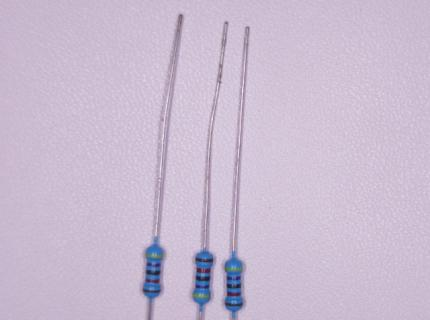Black band: (146, 270, 161, 275), (196, 276, 209, 281), (227, 284, 241, 288)
Brown band: (195, 258, 214, 262), (143, 289, 161, 293), (225, 302, 243, 306)
Red band: (227, 291, 241, 296), (197, 268, 210, 272), (146, 279, 159, 283)
Violet band: (147, 262, 161, 268), (195, 284, 210, 289), (227, 276, 240, 281)
Yellow band: (225, 267, 243, 271), (146, 254, 163, 258), (193, 294, 210, 298)
